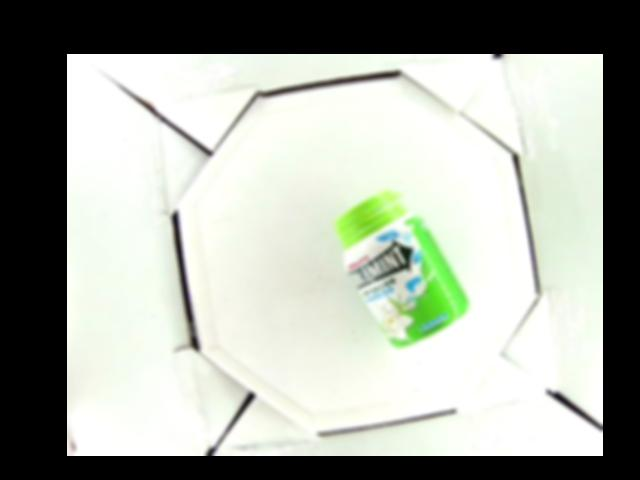Bottle: (335, 188, 469, 350)
